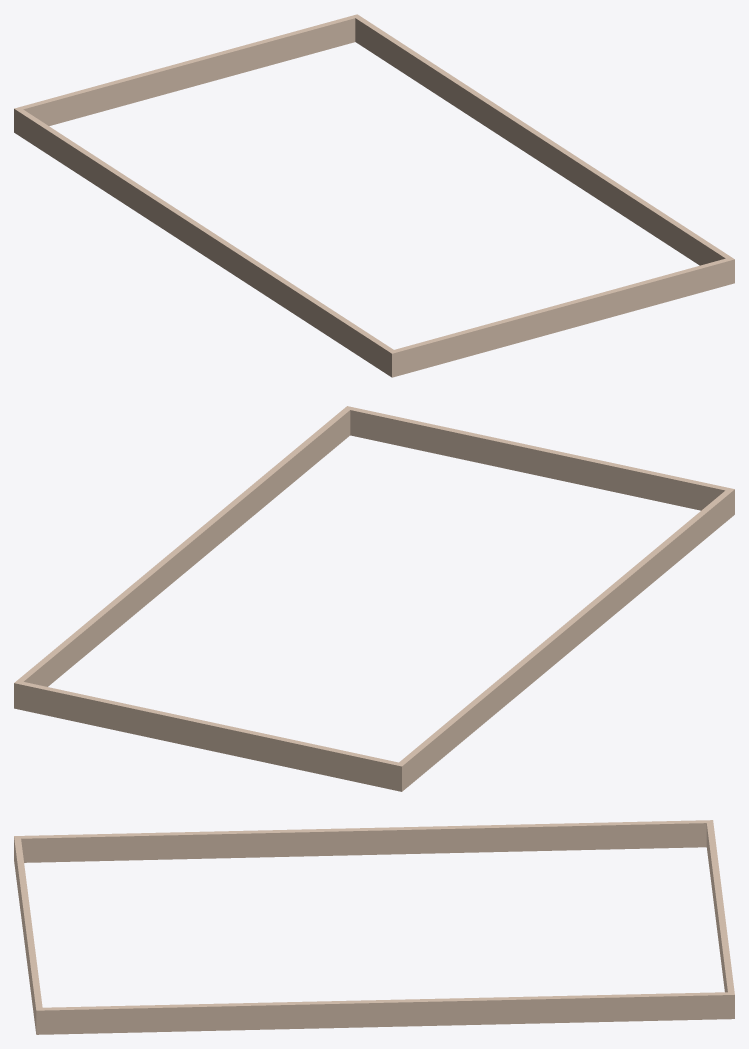
The picture shows the model from 3 angles, top to bottom: view 1: azimuth 30°, elevation 25°; view 2: azimuth 150°, elevation 25°; view 3: azimuth 270°, elevation 25°; orthographic projection. The views are drawn at different scales.
Parts seen in each view (by area): view 1: SM_323697f0d1afe9031aef; view 2: SM_323697f0d1afe9031aef; view 3: SM_323697f0d1afe9031aef.
Boxes of the visible parts, bbox=[...] form: SM_323697f0d1afe9031aef: bbox=[14, 14, 734, 377]; SM_323697f0d1afe9031aef: bbox=[14, 406, 734, 791]; SM_323697f0d1afe9031aef: bbox=[14, 820, 734, 1034].
Bounding box in the file's own units: 12.07 × 19.3 × 0.715.
